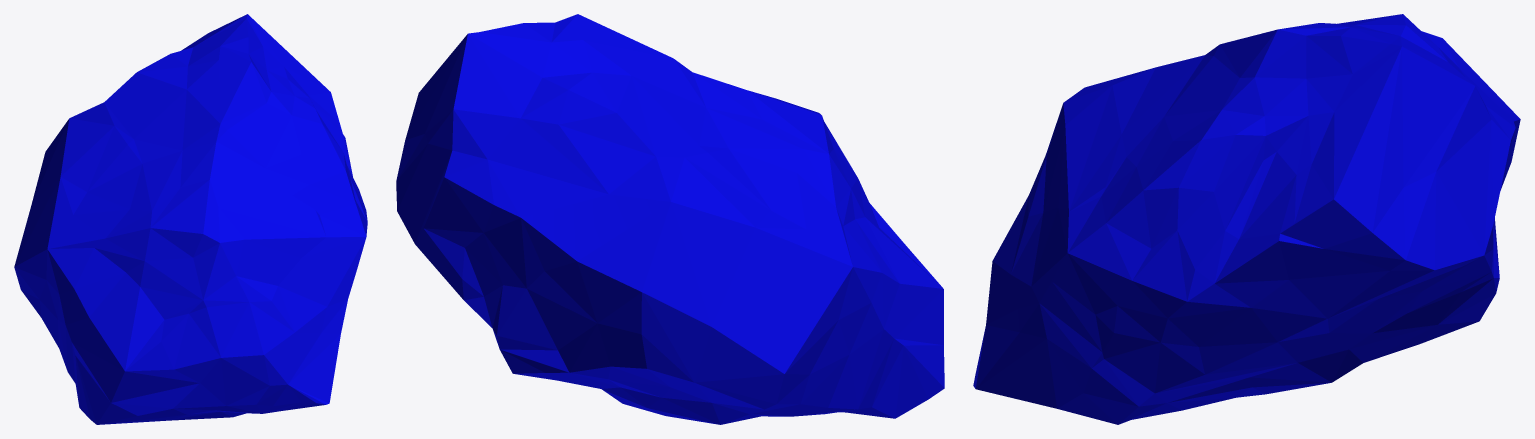
File: meteor_blue_silence_crystal_01.glb
3 views of the same model, side by side, from view 1: azimuth 30°, elevation 25°; view 2: azimuth 150°, elevation 25°; view 3: azimuth 270°, elevation 25° (orthographic). The views are drawn at different scales.
Visible parts, largest first — view 1: Mesh_0; view 2: Mesh_0; view 3: Mesh_0.
Boxes of the visible parts, bbox=[...] form: Mesh_0: bbox=[14, 14, 367, 424]; Mesh_0: bbox=[396, 14, 944, 424]; Mesh_0: bbox=[973, 14, 1520, 424].
Bounding box in the file's own units: 1.82 × 1.65 × 1.9.
